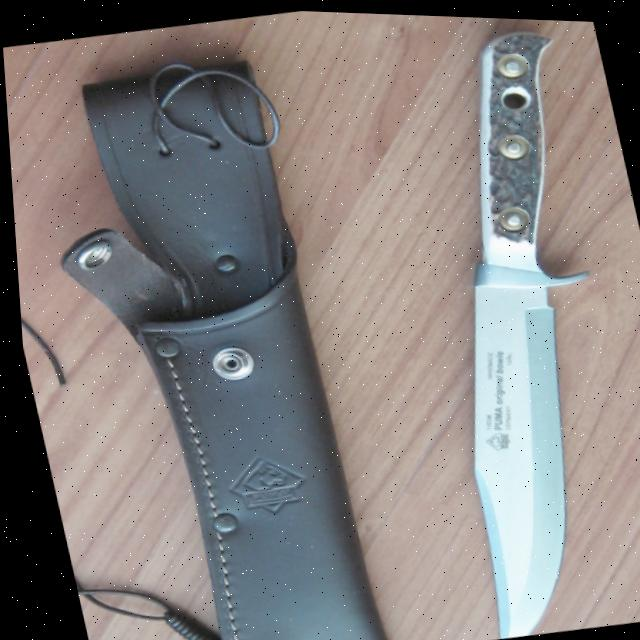knife: (361, 15, 640, 640)
